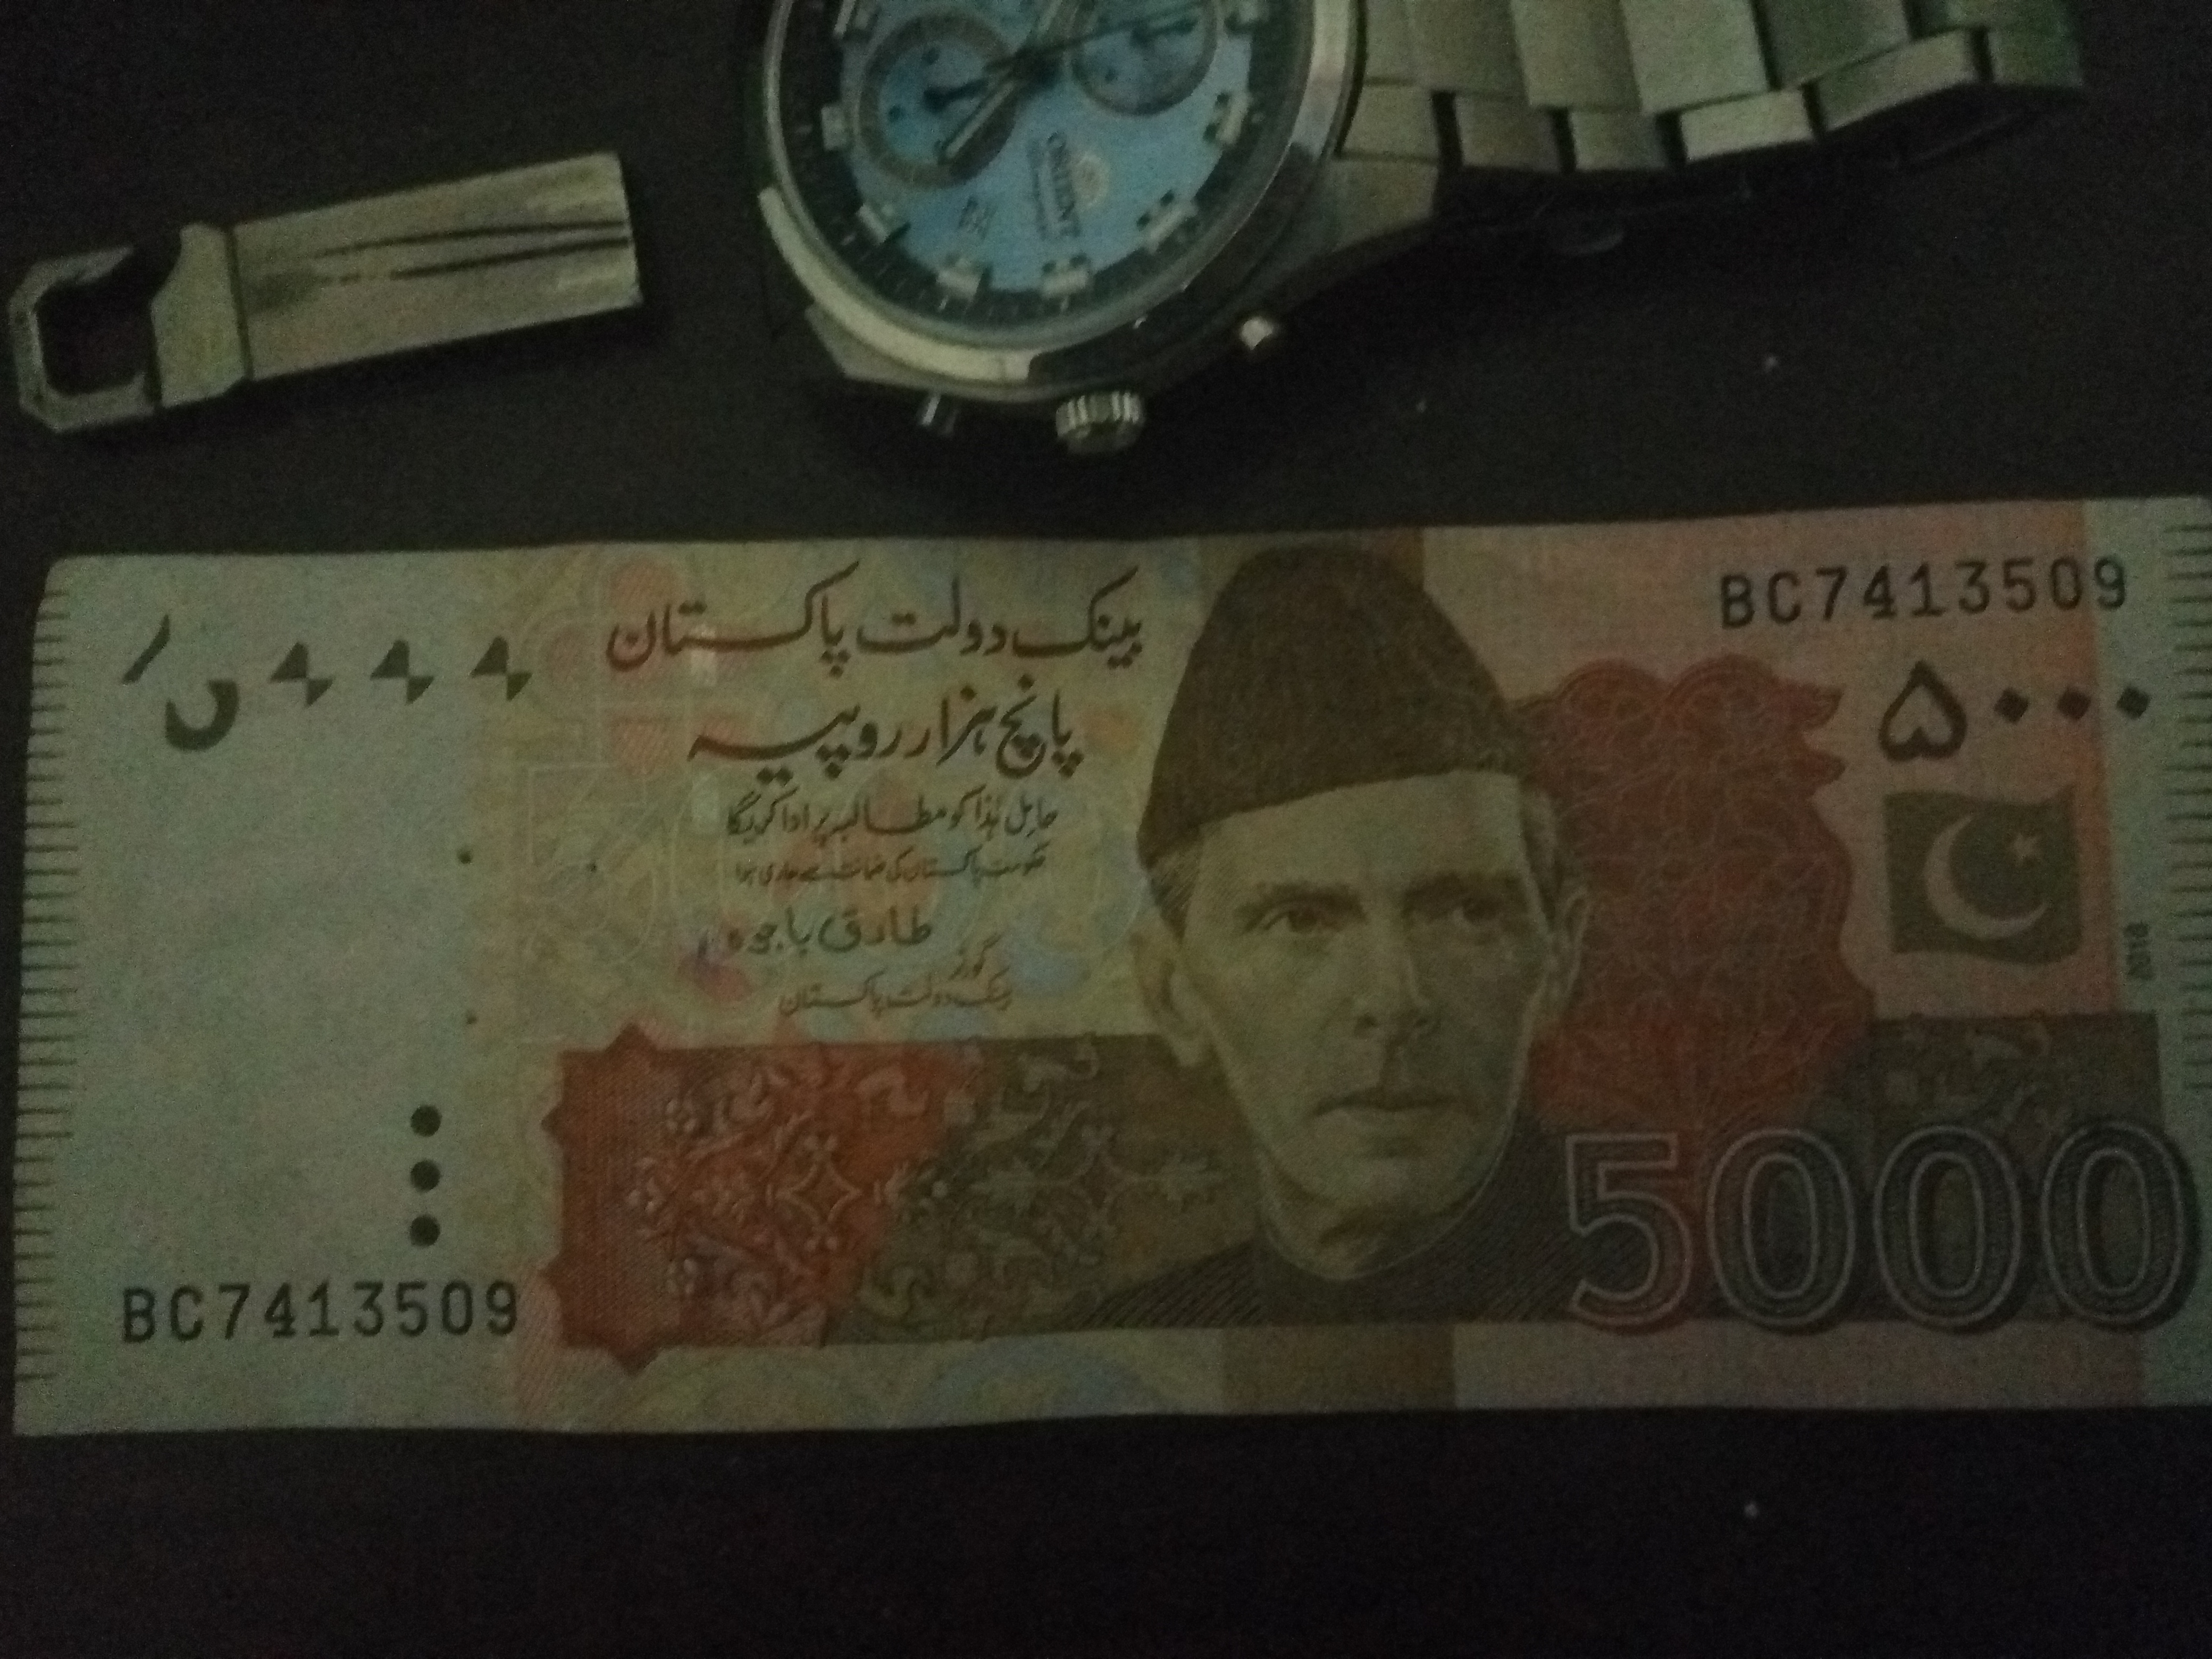5000 rupee: (40, 505, 2200, 1570)
